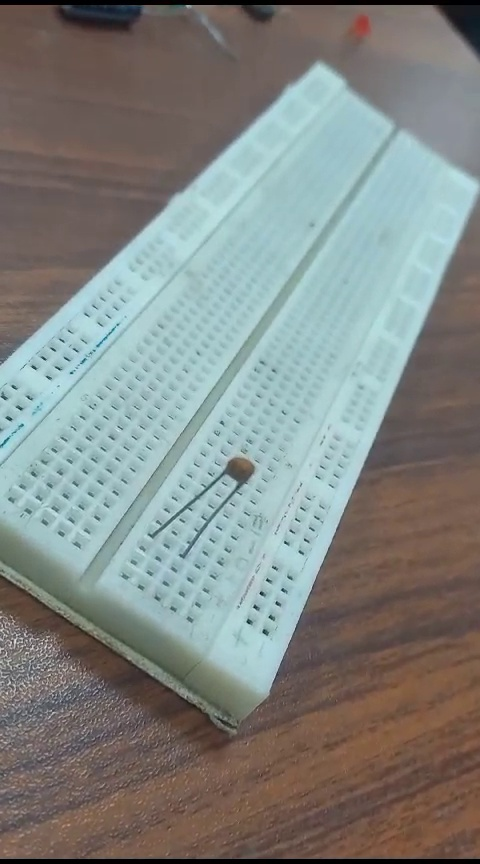ceramic capacitor: (151, 441, 268, 579)
